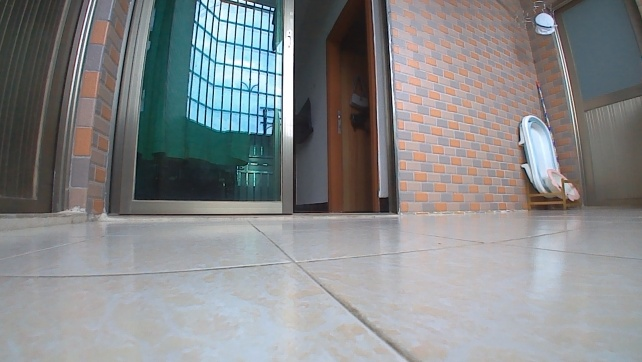door_anno: (553, 0, 641, 207)
